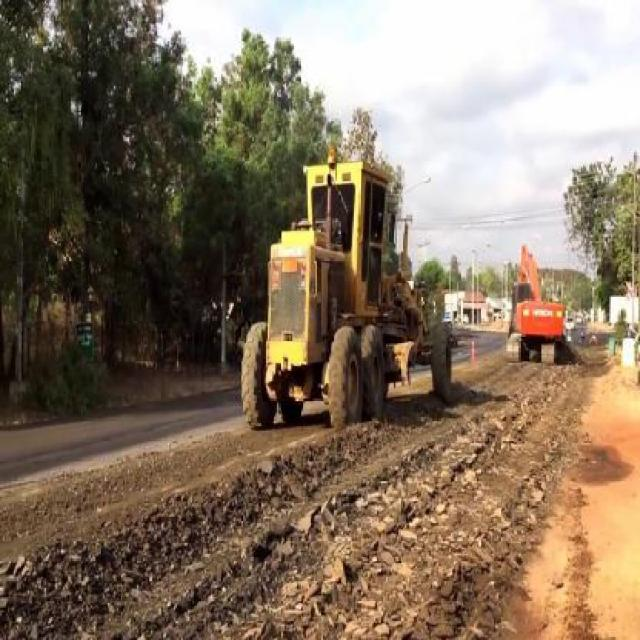Excavator: (508, 228, 564, 339)
